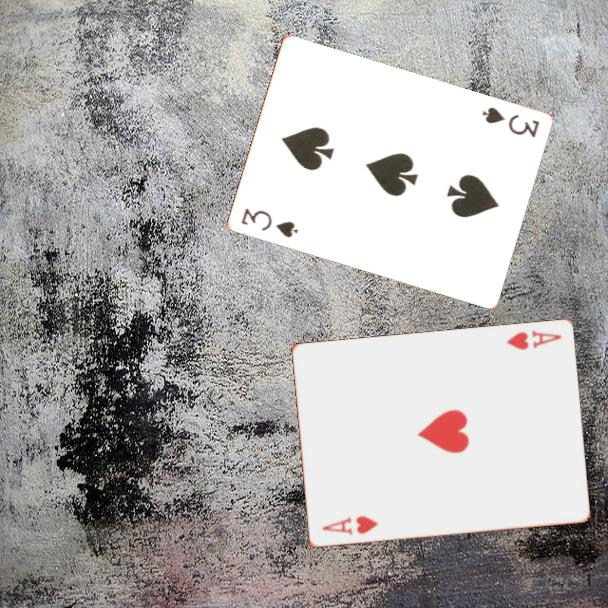h01: (318, 512, 381, 538), (502, 327, 564, 353)
s03: (478, 104, 542, 141), (237, 205, 300, 241)
